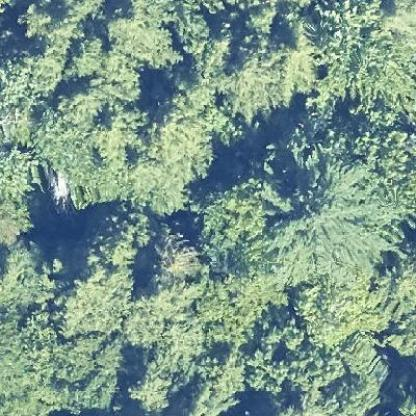tree-top: (251, 156, 390, 280), (44, 207, 153, 339), (2, 308, 123, 412), (308, 4, 415, 121), (32, 94, 135, 209), (126, 99, 219, 219), (283, 274, 386, 352), (192, 179, 272, 273), (248, 328, 343, 404), (102, 9, 183, 71)
